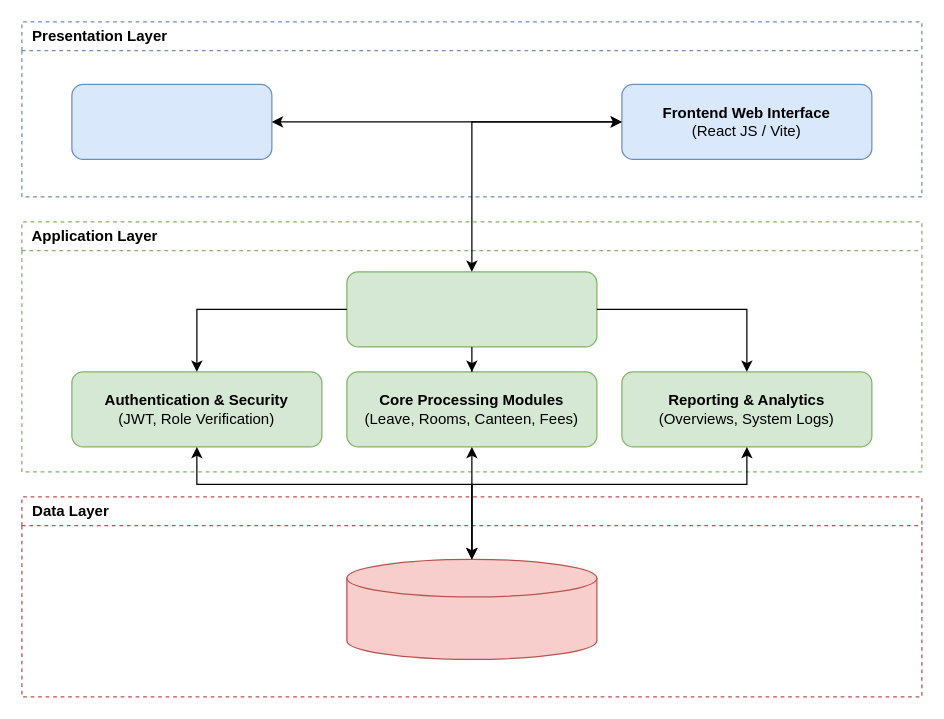
The diagram is 944 pixels wide and 719 high, and some of its shapes have lost their labels. The centre of each missing label's shape, as x and y in pixels:
"Backend API Server (Express JS / Node.js)" belongs at point 471,309.
"Relational Database (Oracle SQL)" belongs at point 471,608.
"User (Student, Staff, Admin)" belongs at point 171,121.
